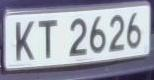2: (66, 14, 90, 63), (107, 11, 127, 59)
6: (86, 13, 109, 60), (125, 10, 144, 55)
K: (12, 17, 38, 67)
T: (36, 16, 62, 66)
